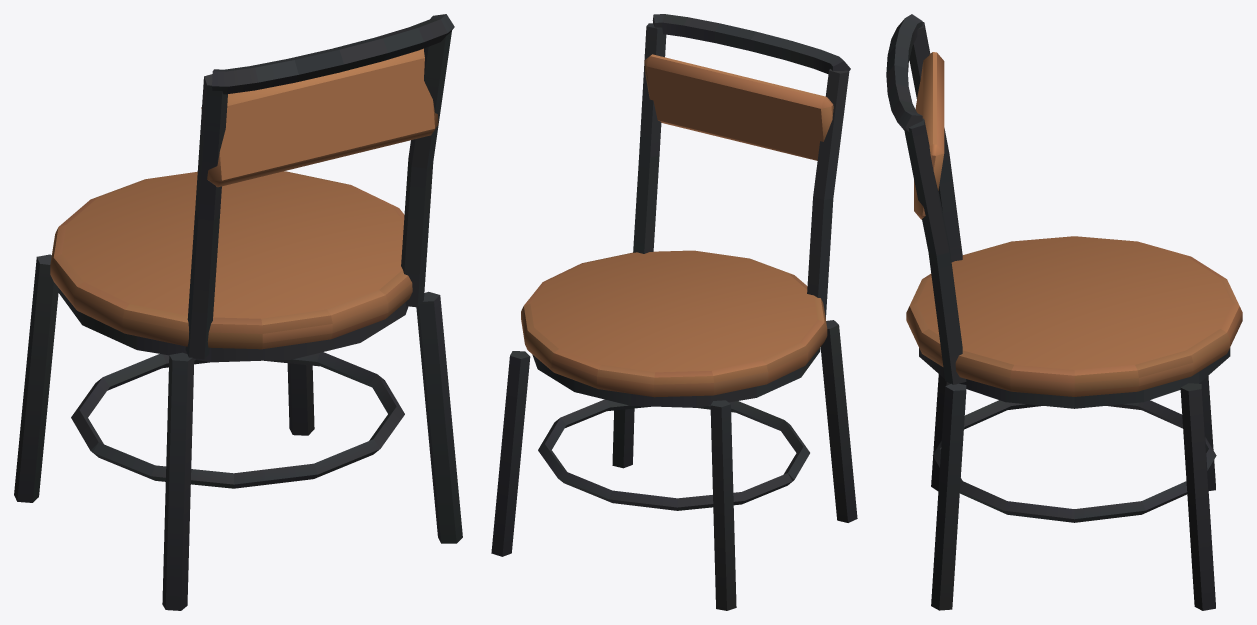
The model's file is cafe-chair.glb.
The picture shows the model from 3 angles, left to right: view 1: azimuth 30°, elevation 25°; view 2: azimuth 150°, elevation 25°; view 3: azimuth 270°, elevation 25°; orthographic projection. The views are drawn at different scales.
Visible parts, largest first — view 1: cafe-chair; view 2: cafe-chair; view 3: cafe-chair.
Part boxes in pixels (left/top/right/bottom): cafe-chair: left=14, top=14, right=462, bottom=610; cafe-chair: left=491, top=14, right=857, bottom=610; cafe-chair: left=886, top=14, right=1242, bottom=610.
Bounding box in the file's own units: 0.4 × 0.6333 × 0.424.
